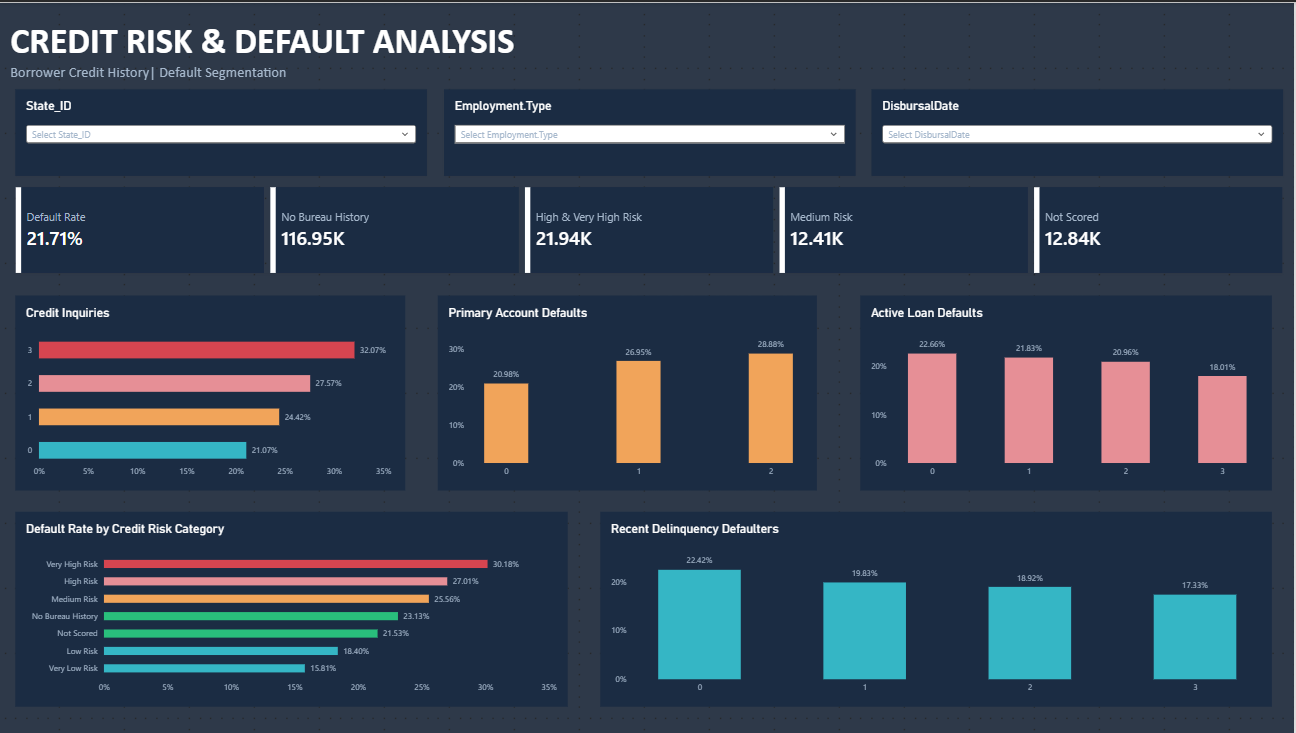

Layout of this report page (visuals, bound fields, positions):
{"tool":"powerbi","page":{"name":"Page 2","canvas":[1920,1080],"ordinal":1},"visuals":[{"type":"cardVisual","fields":{"Data":["loan_default_cleaned.Default Rate","loan_default_cleaned.No Bureau History","loan_default_cleaned.High & Very High Risk","loan_default_cleaned.Low & Very Low Risk Loans","loan_default_cleaned.Not Scored"]},"box":[32,272,1872,128],"z":0},{"type":"textbox","box":[24,24,912,144],"z":1000},{"type":"listSlicer","fields":{"Values":["loan_default_cleaned.State_ID"]},"box":[32,128,608,128],"z":2000},{"type":"listSlicer","fields":{"Values":["loan_default_cleaned.Employment.Type"]},"box":[664,128,608,128],"z":3000},{"type":"listSlicer","fields":{"Values":["loan_default_cleaned.DisbursalDate"]},"box":[1296,128,608,128],"z":4000},{"type":"clusteredBarChart","title":"Default Rate by Credit Risk Category","fields":{"Category":["loan_default_cleaned.Credit_Risk_Category"],"Y":["loan_default_cleaned.Default Rate"]},"box":[32,752,816,288],"z":5000},{"type":"clusteredBarChart","title":"Credit Inquiries","fields":{"Category":["loan_default_cleaned.Inquiry_Group"],"Y":["loan_default_cleaned.Default Rate"]},"box":[32,432,576,288],"z":6000},{"type":"clusteredColumnChart","title":"Primary Account Defaults","fields":{"Category":["loan_default_cleaned.Primary_Default_Group"],"Y":["loan_default_cleaned.Default Rate"]},"box":[656,432,560,288],"z":7000},{"type":"clusteredColumnChart","title":"Recent Delinquency Defaulters ","fields":{"Category":["loan_default_cleaned.Recent_Loan_Group"],"Y":["loan_default_cleaned.Default Rate"]},"box":[896,752,992,288],"z":8000},{"type":"clusteredColumnChart","title":"Active Loan Defaults","fields":{"Category":["loan_default_cleaned.Active_Primary_Group"],"Y":["loan_default_cleaned.Default Rate"]},"box":[1280,432,608,288],"z":8001}]}

Visuals, with their boxes in screenshot pixels (x1, y1, x2, y2), scaled from the page's 1920x1080 canvas onto the 1296x733 screenshot:
cardVisual - loan_default_cleaned.Default Rate x loan_default_cleaned.No Bureau History: region(22, 185, 1285, 271)
textbox: region(16, 16, 632, 114)
listSlicer - loan_default_cleaned.State_ID: region(22, 87, 432, 174)
listSlicer - loan_default_cleaned.Employment.Type: region(448, 87, 859, 174)
listSlicer - loan_default_cleaned.DisbursalDate: region(875, 87, 1285, 174)
"Default Rate by Credit Risk Category" clusteredBarChart: region(22, 510, 572, 706)
"Credit Inquiries" clusteredBarChart: region(22, 293, 410, 489)
"Primary Account Defaults" clusteredColumnChart: region(443, 293, 821, 489)
"Recent Delinquency Defaulters " clusteredColumnChart: region(605, 510, 1274, 706)
"Active Loan Defaults" clusteredColumnChart: region(864, 293, 1274, 489)
